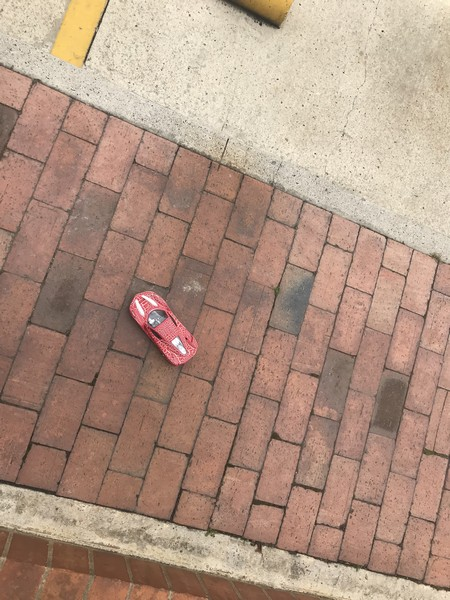RC: (129, 288, 200, 369)
